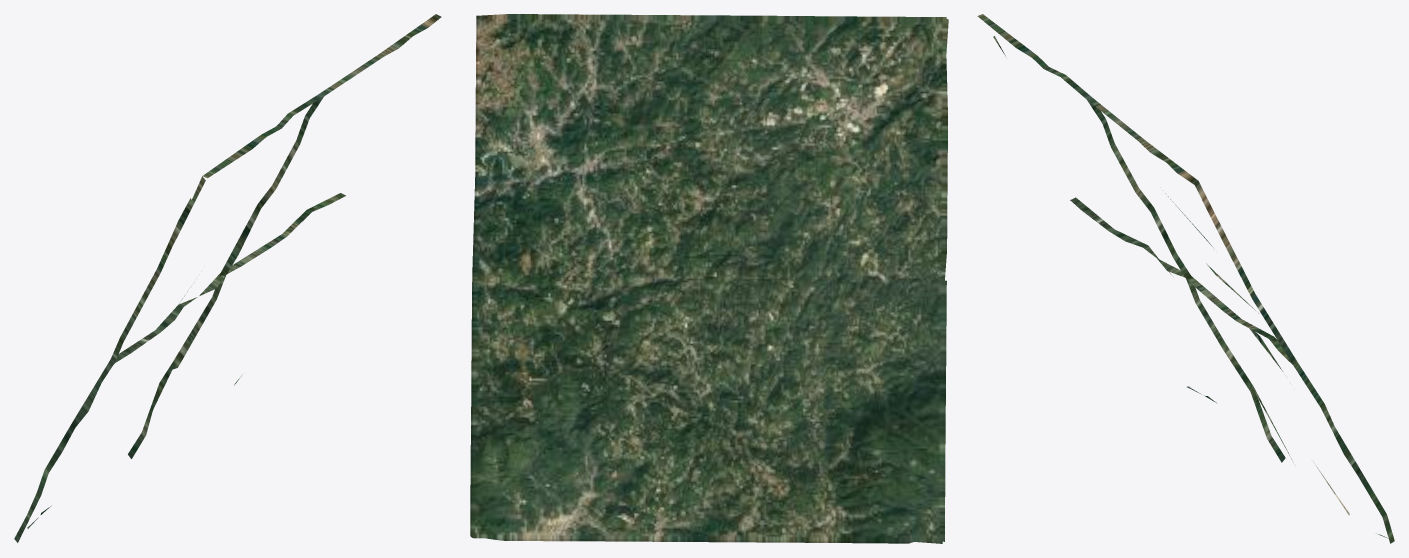
3 views of the same model, side by side, from view 1: azimuth 30°, elevation 25°; view 2: azimuth 150°, elevation 25°; view 3: azimuth 270°, elevation 25° (orthographic). The views are drawn at different scales.
Size of the model in its own units: 39415 by 35845 by 32749.
1 material, 1 textured.
